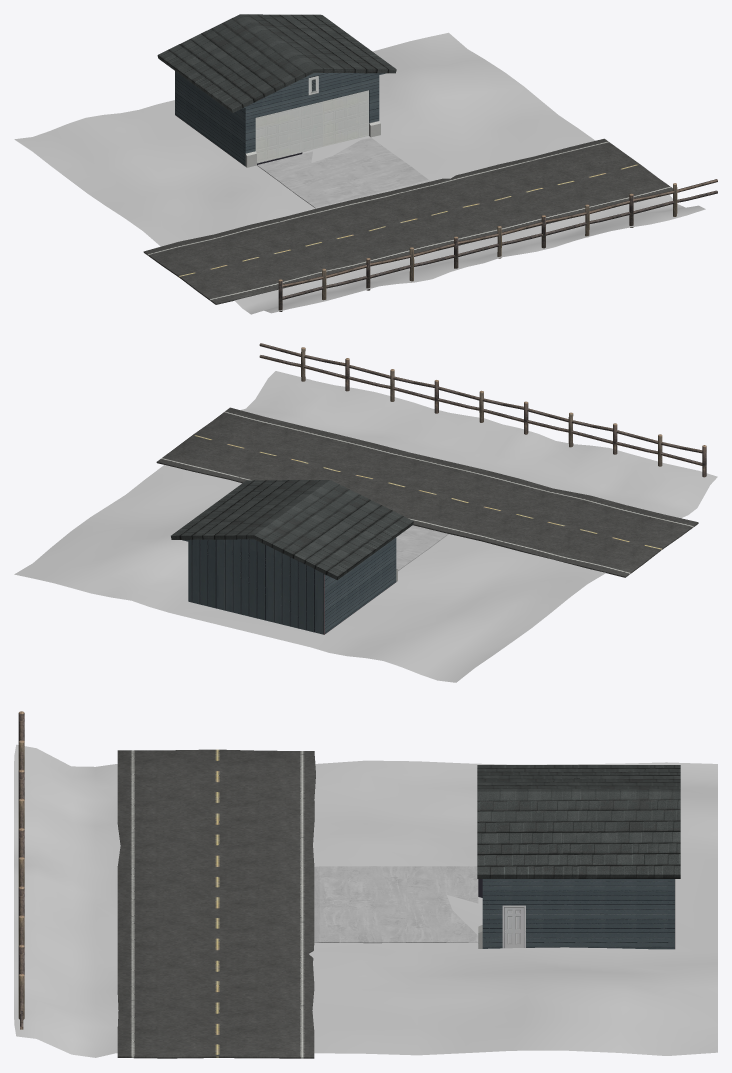
File: env.fbx
3 renders of one model, top to bottom at view 1: azimuth 30°, elevation 25°; view 2: azimuth 150°, elevation 25°; view 3: azimuth 270°, elevation 25°, orthographic. The views are drawn at different scales.
Parts seen in each view (by area): view 1: ground, road, roof, garage, driveway, garage door, fence; view 2: ground, road, roof, garage, fence, driveway; view 3: ground, road, roof, garage, driveway, fence.
Boxes of the visible parts, <box> form: ground: <box>14,32,705,314</box>; road: <box>143,138,672,304</box>; roof: <box>157,14,396,112</box>; garage: <box>175,71,385,167</box>; driveway: <box>257,137,430,208</box>; garage door: <box>255,90,368,163</box>; fence: <box>278,179,717,311</box>; ground: <box>14,371,717,682</box>; road: <box>156,407,698,577</box>; roof: <box>171,480,413,580</box>; garage: <box>182,537,397,634</box>; fence: <box>259,343,706,477</box>; driveway: <box>396,525,448,570</box>; ground: <box>14,744,717,1057</box>; road: <box>117,749,315,1058</box>; roof: <box>477,765,680,878</box>; garage: <box>478,879,675,949</box>; driveway: <box>314,866,478,943</box>; fence: <box>18,711,24,1029</box>.
Bounding box in the file's own units: 2313 × 411 × 2218.
